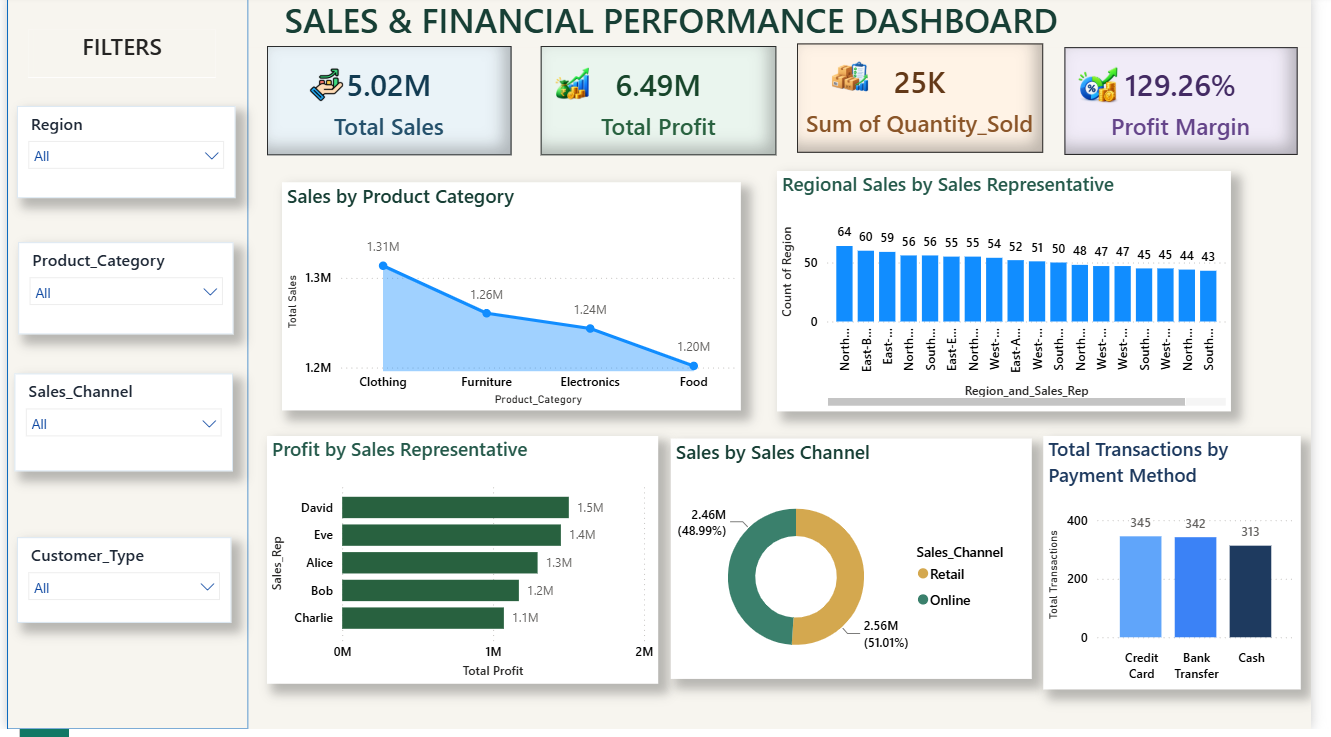

What the dashboard file says about the page in this screenshot:
{"tool":"powerbi","page":{"name":"Page 1","canvas":[1280,720],"ordinal":0},"visuals":[{"type":"textbox","title":"SALES & FINANCIAL PERFORMANCE DASHBOARD","box":[22.9,0,1257.1,50],"z":0},{"type":"card","fields":{"Values":["SalesData.Total Sales"]},"box":[255.7,48.6,240,107.1],"z":1000},{"type":"card","fields":{"Values":["SalesData.Total Profit"]},"box":[524.3,48.6,231.4,107.1],"z":2000},{"type":"card","fields":{"Values":["Sum(SalesData.Quantity_Sold)"]},"box":[775.7,47.1,241.4,107.1],"z":3000},{"type":"card","fields":{"Values":["SalesData.Profit Margin"]},"box":[1038.6,50,228.6,105.7],"z":4000},{"type":"image","box":[295.7,52.9,35.7,68.6],"z":5000},{"type":"image","box":[801.4,54.3,51.4,50],"z":6000},{"type":"image","box":[535.7,67.1,37.1,38.6],"z":7000},{"type":"image","box":[1048.6,67.1,42.9,41.4],"z":8000},{"type":"shape","title":"FILTERS","box":[0,0,237.1,720],"z":9000},{"type":"textbox","title":"FILTERS","box":[21.4,32.9,184.3,47.1],"z":10000},{"type":"slicer","fields":{"Values":["SalesData.Region"]},"box":[10,108.6,214.3,90],"z":11000},{"type":"slicer","fields":{"Values":["SalesData.Product_Category"]},"box":[11.4,241.4,211.4,90],"z":12000},{"type":"slicer","fields":{"Values":["SalesData.Sales_Channel"]},"box":[7.1,370,214.3,95.7],"z":13000},{"type":"slicer","fields":{"Values":["SalesData.Customer_Type"]},"box":[10,531.4,210,84.3],"z":14000},{"type":"lineChart","title":"Sales by Product Category","fields":{"Category":["SalesData.Product_Category"],"Y":["SalesData.Total Sales"]},"box":[270,182.9,450,224.3],"z":15000},{"type":"clusteredColumnChart","title":"Regional Sales by Sales Representative","fields":{"Y":["CountNonNull(SalesData.Region)"],"Category":["SalesData.Region_and_Sales_Rep"]},"box":[755.7,171.4,445.7,235.7],"z":16000},{"type":"clusteredBarChart","title":"Profit by Sales Representative","fields":{"Category":["SalesData.Sales_Rep"],"Y":["SalesData.Total Profit"]},"box":[255.7,431.4,384.3,242.9],"z":17000},{"type":"donutChart","title":"Sales by Sales Channel","fields":{"Category":["SalesData.Sales_Channel"],"Y":["SalesData.Total Sales"]},"box":[651.4,434.3,354.3,235.7],"z":18000},{"type":"clusteredColumnChart","title":"Total Transactions by Payment Method","fields":{"Category":["SalesData.Payment_Method"],"Y":["SalesData.Total Transactions"]},"box":[1017.1,431.4,252.9,248.6],"z":19000}]}

Visuals, with their boxes in screenshot pixels (x1, y1, x2, y2), scaled from the page's 1280x720 canvas onto the 1331x737 screenshot:
"SALES & FINANCIAL PERFORMANCE DASHBOARD" textbox: [left=24, top=0, right=1330, bottom=51]
card - SalesData.Total Sales: [left=266, top=50, right=515, bottom=159]
card - SalesData.Total Profit: [left=545, top=50, right=786, bottom=159]
card - Sum(SalesData.Quantity_Sold): [left=807, top=48, right=1058, bottom=158]
card - SalesData.Profit Margin: [left=1080, top=51, right=1318, bottom=159]
image: [left=307, top=54, right=345, bottom=124]
image: [left=833, top=56, right=887, bottom=107]
image: [left=557, top=69, right=596, bottom=108]
image: [left=1090, top=69, right=1135, bottom=111]
"FILTERS" shape: [left=0, top=0, right=247, bottom=736]
"FILTERS" textbox: [left=22, top=34, right=214, bottom=82]
slicer - SalesData.Region: [left=10, top=111, right=233, bottom=203]
slicer - SalesData.Product_Category: [left=12, top=247, right=232, bottom=339]
slicer - SalesData.Sales_Channel: [left=7, top=379, right=230, bottom=477]
slicer - SalesData.Customer_Type: [left=10, top=544, right=229, bottom=630]
"Sales by Product Category" lineChart: [left=281, top=187, right=749, bottom=417]
"Regional Sales by Sales Representative" clusteredColumnChart: [left=786, top=175, right=1249, bottom=417]
"Profit by Sales Representative" clusteredBarChart: [left=266, top=442, right=666, bottom=690]
"Sales by Sales Channel" donutChart: [left=677, top=445, right=1046, bottom=686]
"Total Transactions by Payment Method" clusteredColumnChart: [left=1058, top=442, right=1321, bottom=696]
